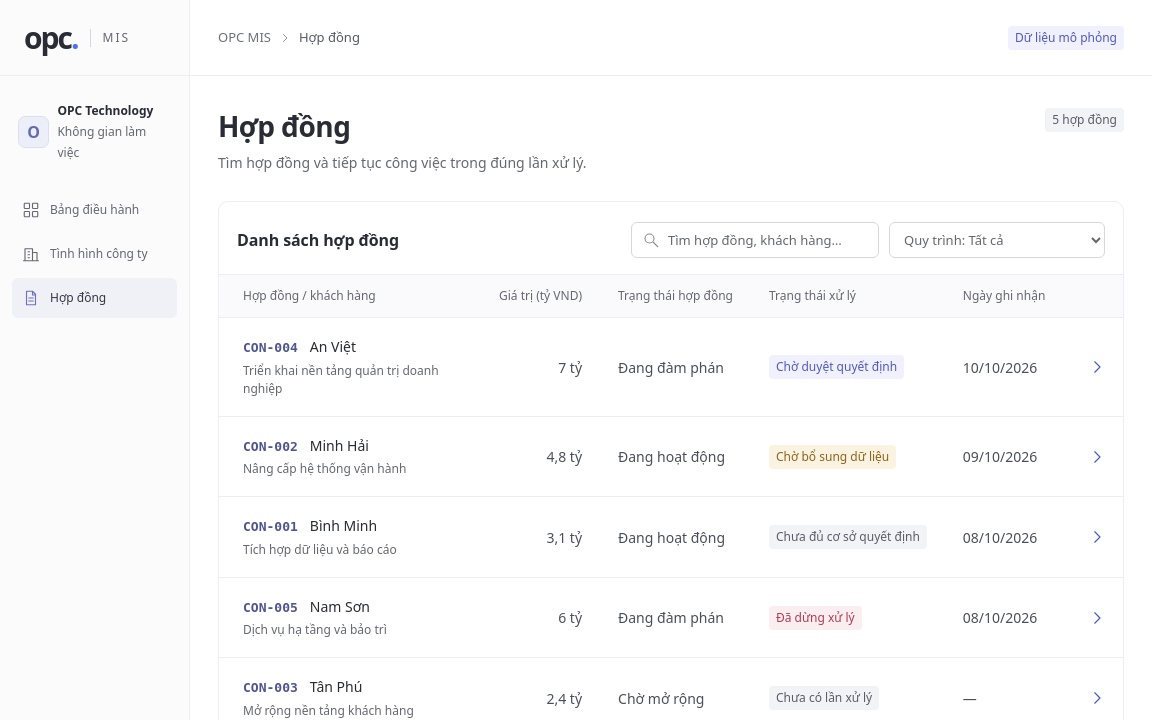
isolated executive preview › searches contract rows and reports an empty filter result
Type "An Việt" into the field labelled "Tìm hợp đồng". click: [768, 240]
box: [668,224,868,256]
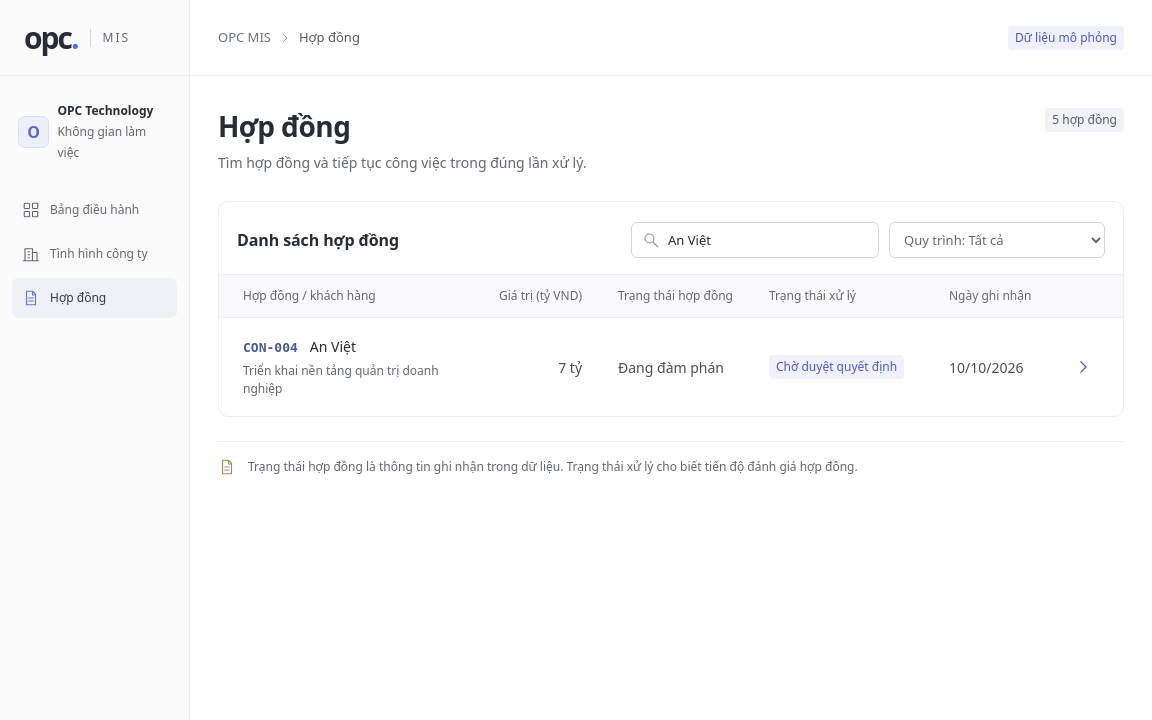
Check: the text "CON-004" is shown, box [243,340,298,355]
Check: the link "CON-002" is gone
Replace the text in the field named "Tìm hợp đồng" with "no match". click: [768, 240]
box: [668,224,868,256]
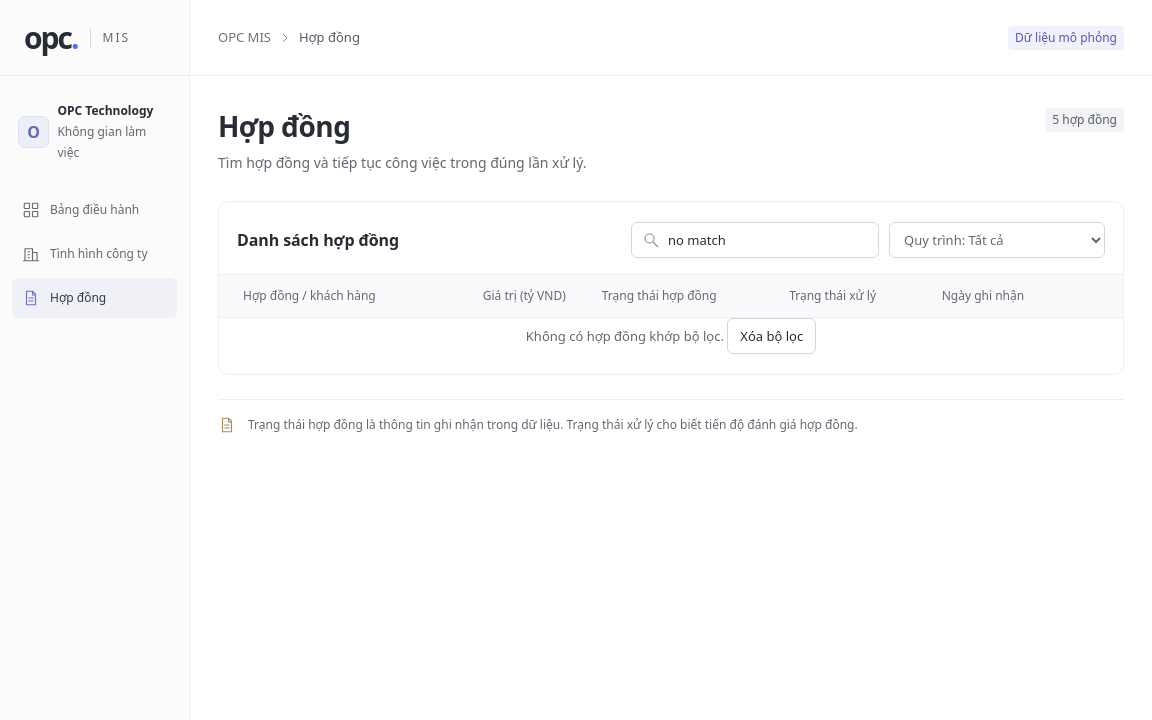
Check: the message shows "Không có hợp đồng khớp bộ lọc", box [526,327,724,345]
